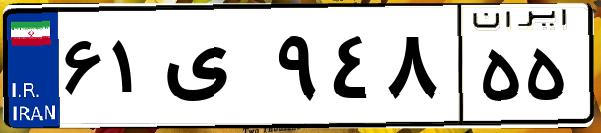1: (110, 28, 158, 98)
4: (330, 28, 385, 110)
5: (475, 38, 525, 113), (525, 38, 570, 115)
6: (57, 26, 110, 100)
8: (385, 28, 445, 110)
9: (270, 28, 330, 110)
ی: (158, 20, 270, 120)
